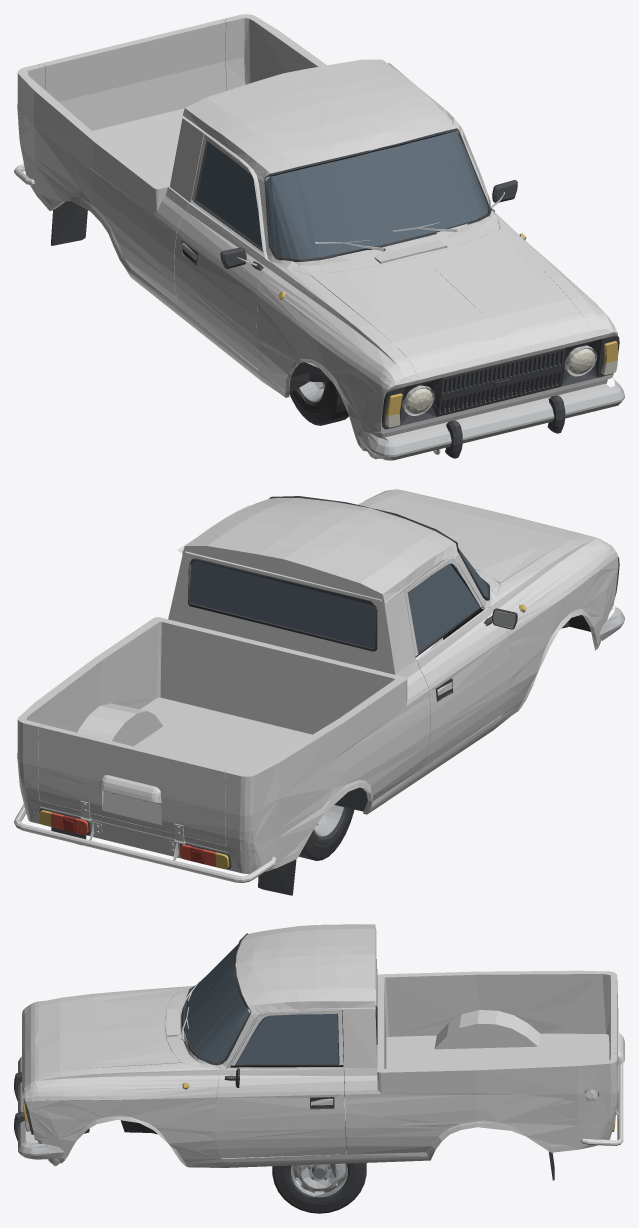
Rendered from pickup.glb.
The picture shows the model from 3 angles, top to bottom: view 1: azimuth 30°, elevation 25°; view 2: azimuth 150°, elevation 25°; view 3: azimuth 270°, elevation 25°; orthographic projection. The views are drawn at different scales.
Visible parts, largest first — view 1: paint, detail, lo-paint, lo-detail, lights, wheel; view 2: paint, lo-paint, detail, lights, wheel, lo-detail; view 3: paint, lo-paint, detail, lo-detail, wheel, lo-wheel.
Part boxes in pixels (bbox=[...]): paint: bbox=[14, 14, 617, 459]; detail: bbox=[51, 128, 624, 460]; lo-paint: bbox=[17, 14, 617, 459]; lo-detail: bbox=[187, 131, 619, 455]; lights: bbox=[278, 233, 618, 427]; wheel: bbox=[289, 382, 348, 425]; paint: bbox=[14, 489, 618, 882]; lo-paint: bbox=[18, 489, 618, 876]; detail: bbox=[39, 496, 624, 895]; lights: bbox=[39, 588, 617, 869]; wheel: bbox=[298, 805, 354, 860]; lo-detail: bbox=[195, 503, 619, 811]; paint: bbox=[22, 924, 624, 1167]; lo-paint: bbox=[22, 925, 619, 1167]; detail: bbox=[14, 933, 597, 1180]; lo-detail: bbox=[15, 944, 326, 1147]; wheel: bbox=[272, 1163, 366, 1213]; lo-wheel: bbox=[279, 1163, 359, 1203].
Size of the model in its own units: 1.83 by 1.89 by 4.1.
